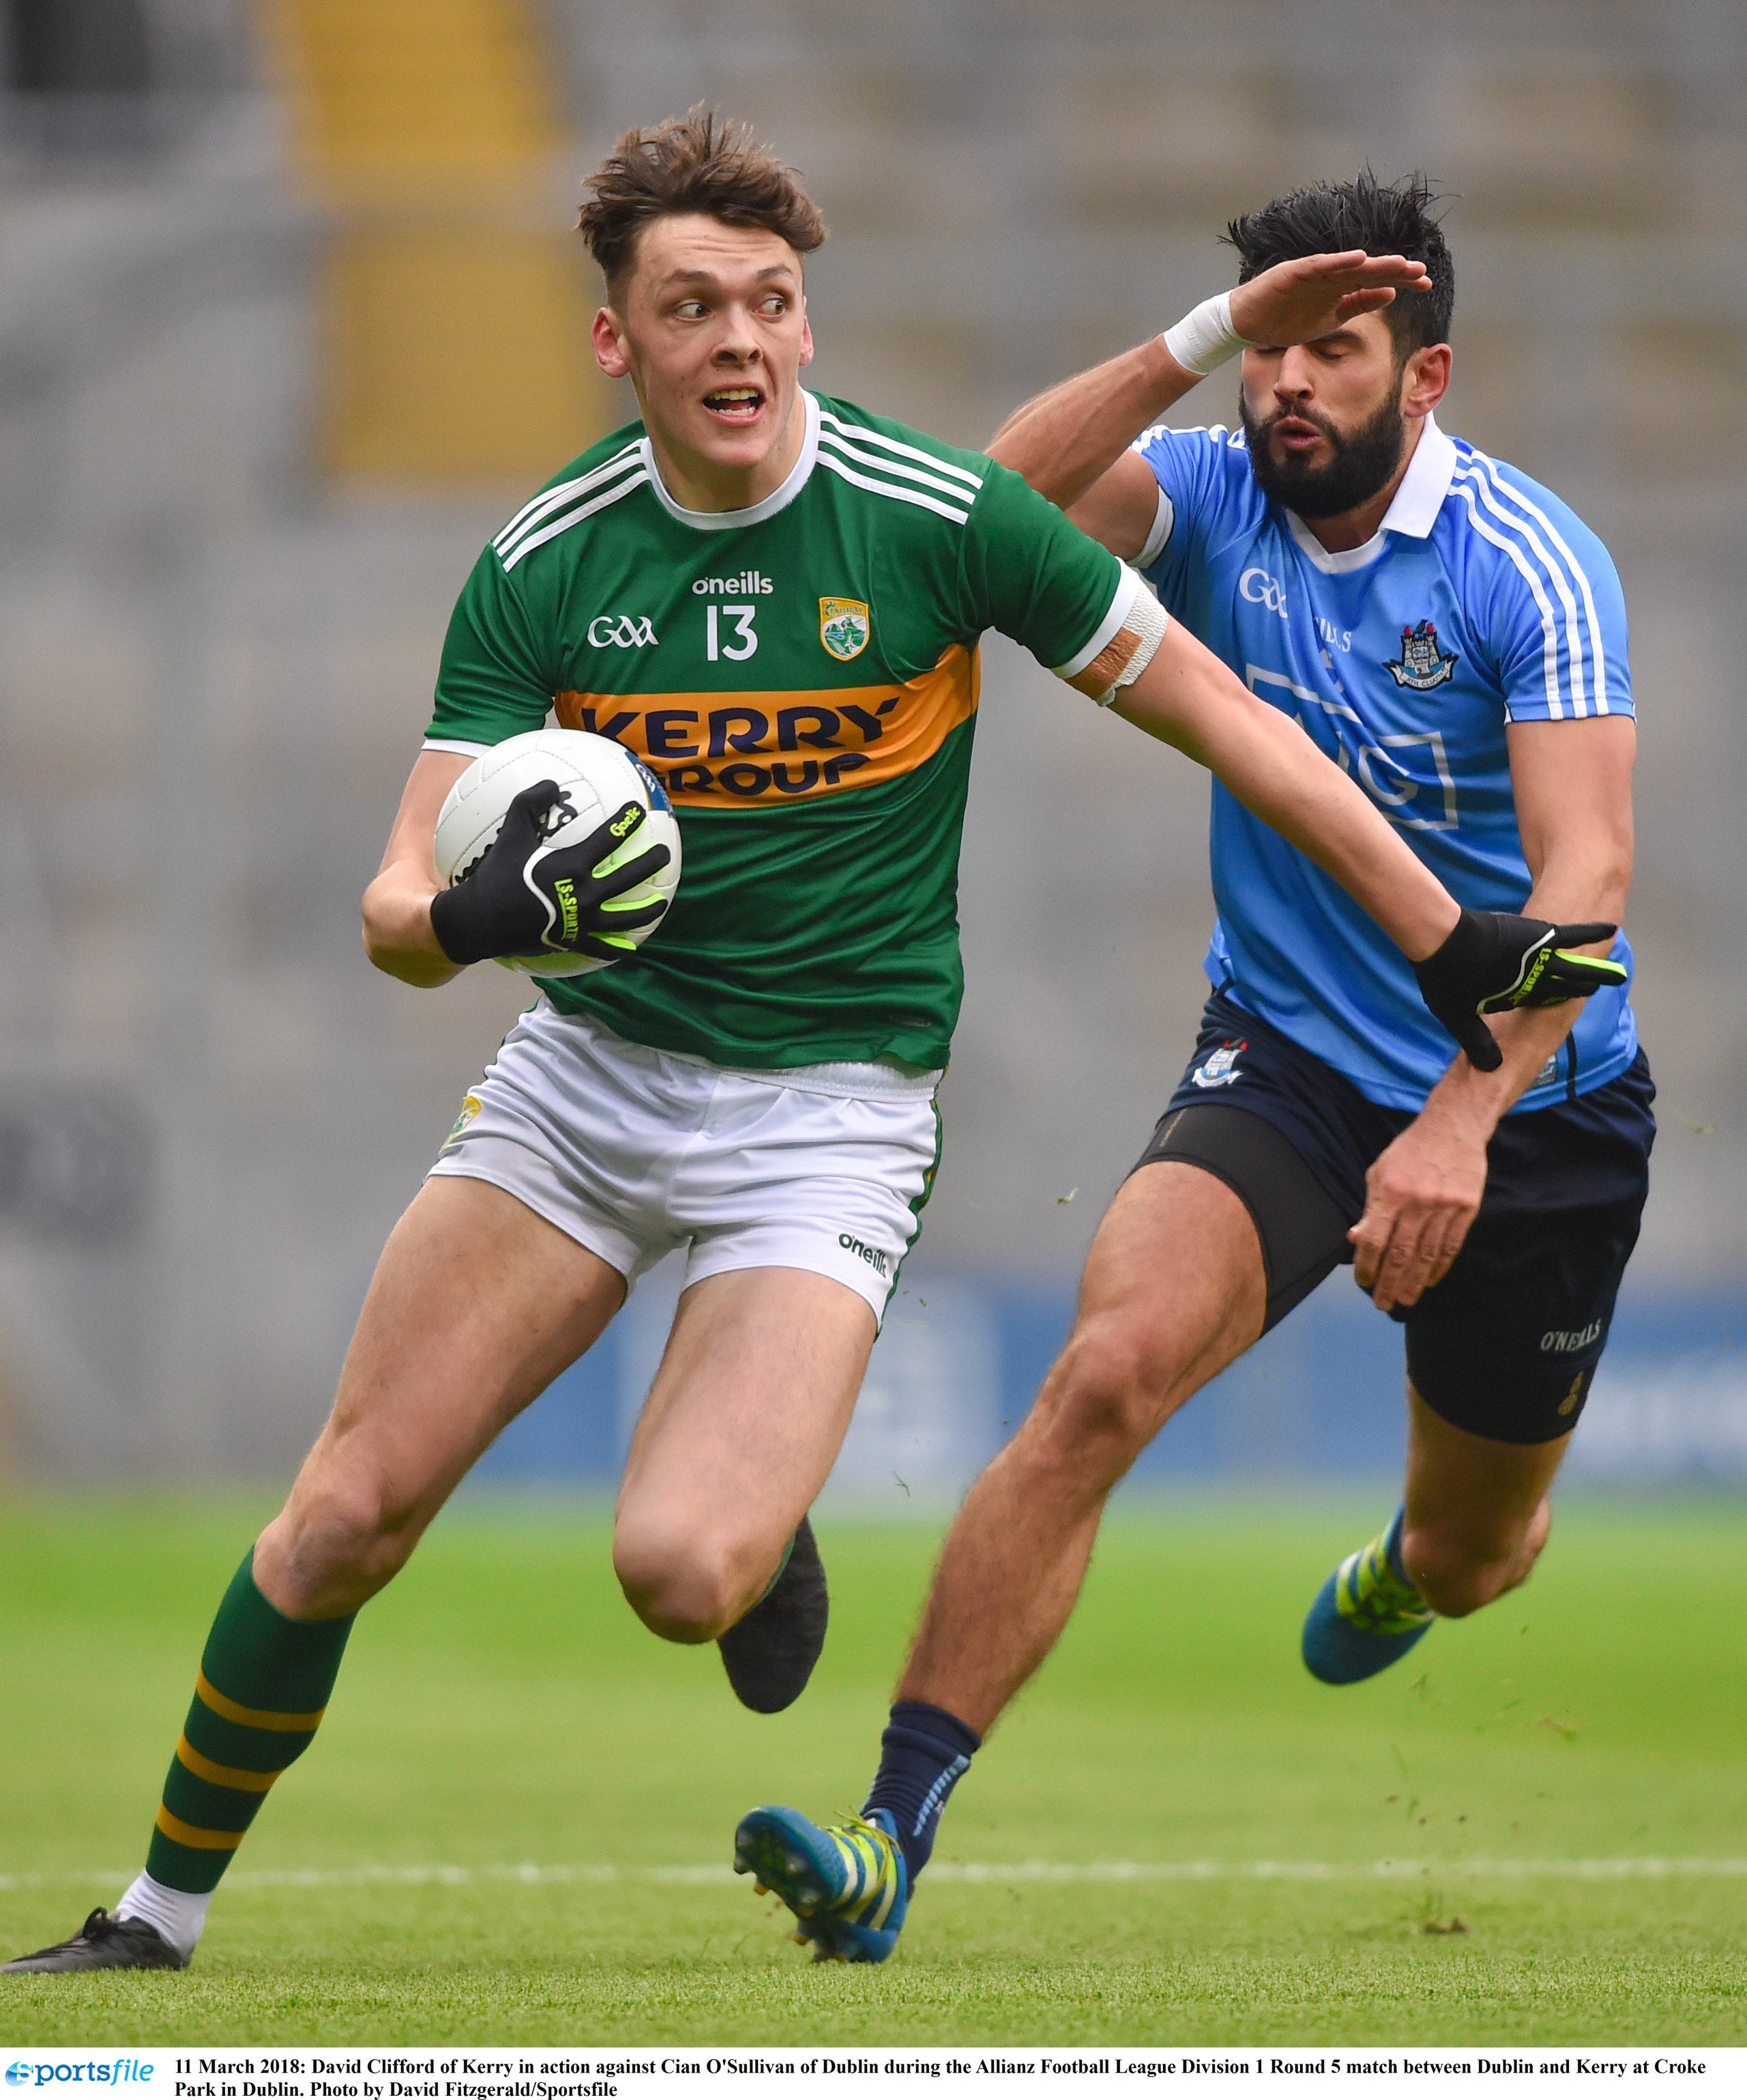ball: (410, 725, 704, 982)
player: (361, 72, 1008, 1759), (1076, 132, 1683, 1719)
